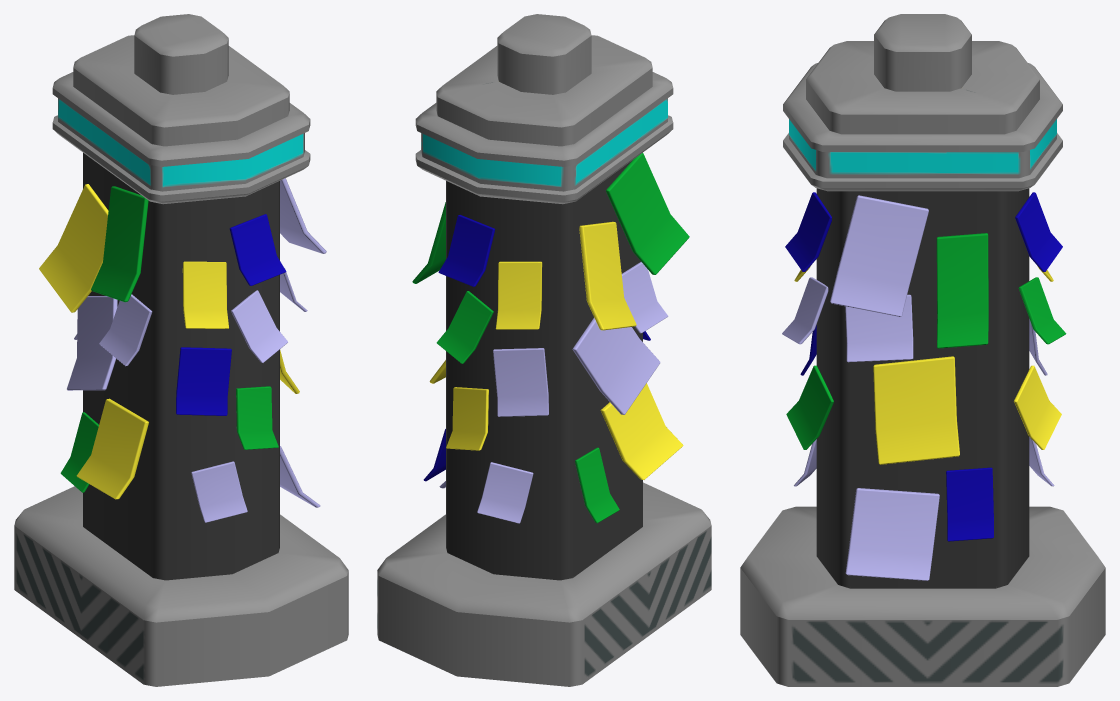
Rendered from SM_Props_09.fbx.
The picture shows the model from 3 angles, left to right: view 1: azimuth 30°, elevation 25°; view 2: azimuth 150°, elevation 25°; view 3: azimuth 270°, elevation 25°; orthographic projection. The views are drawn at different scales.
Visible parts, largest first — view 1: SM_Props_09; view 2: SM_Props_09; view 3: SM_Props_09.
Part boxes in pixels (bbox=[...]): SM_Props_09: bbox=[14, 14, 348, 686]; SM_Props_09: bbox=[377, 14, 711, 686]; SM_Props_09: bbox=[740, 14, 1105, 686].
Size of the model in its own units: 53.01 by 78.29 by 143.
Materials: 1 (1 with a texture image).
